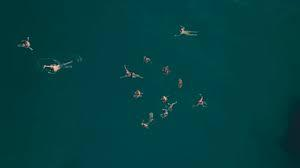Person: (41, 61, 74, 75), (118, 65, 144, 82), (174, 25, 202, 38), (138, 110, 154, 131), (16, 36, 35, 53), (191, 94, 208, 110), (167, 99, 179, 113), (131, 89, 143, 100), (141, 55, 153, 65), (161, 65, 171, 77), (159, 107, 169, 119), (177, 75, 185, 89), (160, 95, 170, 105)
